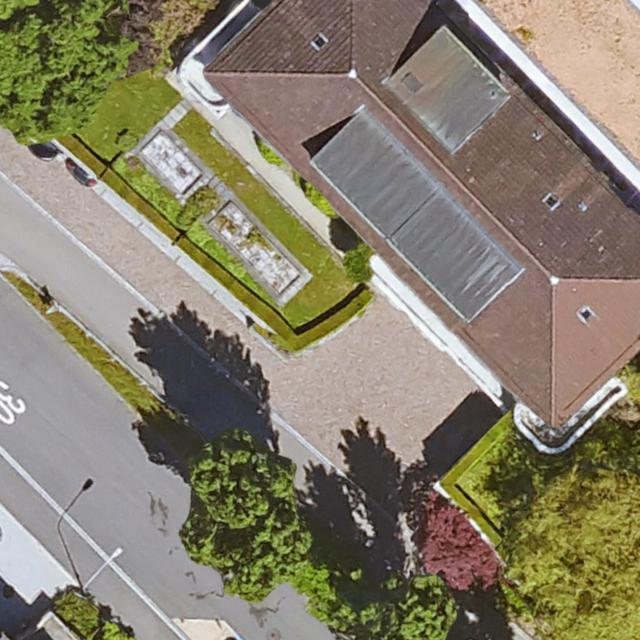tree: (507, 447, 640, 640), (188, 437, 311, 596), (0, 0, 117, 142), (300, 560, 455, 640), (419, 493, 502, 592)
